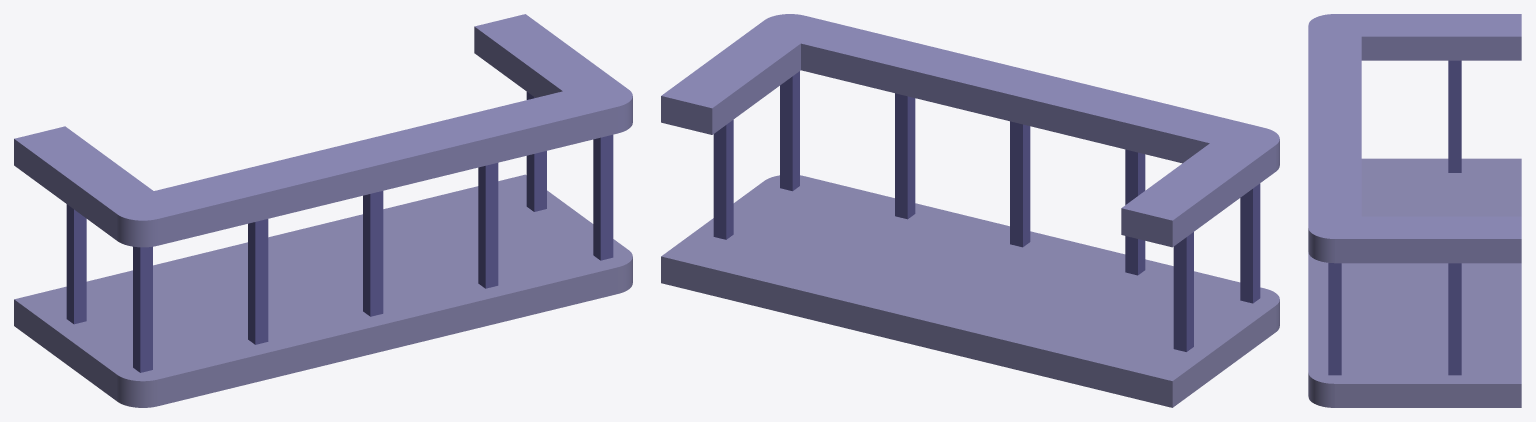
File: balcony_basic.fbx
3 renders of one model, left to right at view 1: azimuth 30°, elevation 25°; view 2: azimuth 150°, elevation 25°; view 3: azimuth 270°, elevation 25°, orthographic. The views are drawn at different scales.
Visible parts, largest first — view 1: balcony_basic; view 2: balcony_basic; view 3: balcony_basic.
Part boxes in pixels (<box>): balcony_basic: <box>14,14,632,407</box>; balcony_basic: <box>661,14,1279,407</box>; balcony_basic: <box>1308,14,1521,407</box>.
Bounding box in the file's own units: 10 × 3.5 × 4.
